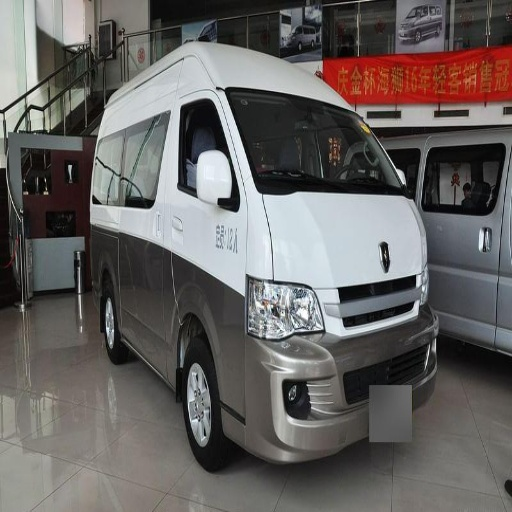front_bumper: (219, 275, 437, 462)
front_glass: (226, 92, 402, 194)
front_right_door: (127, 91, 246, 359)
front_right_light: (247, 280, 322, 340)
